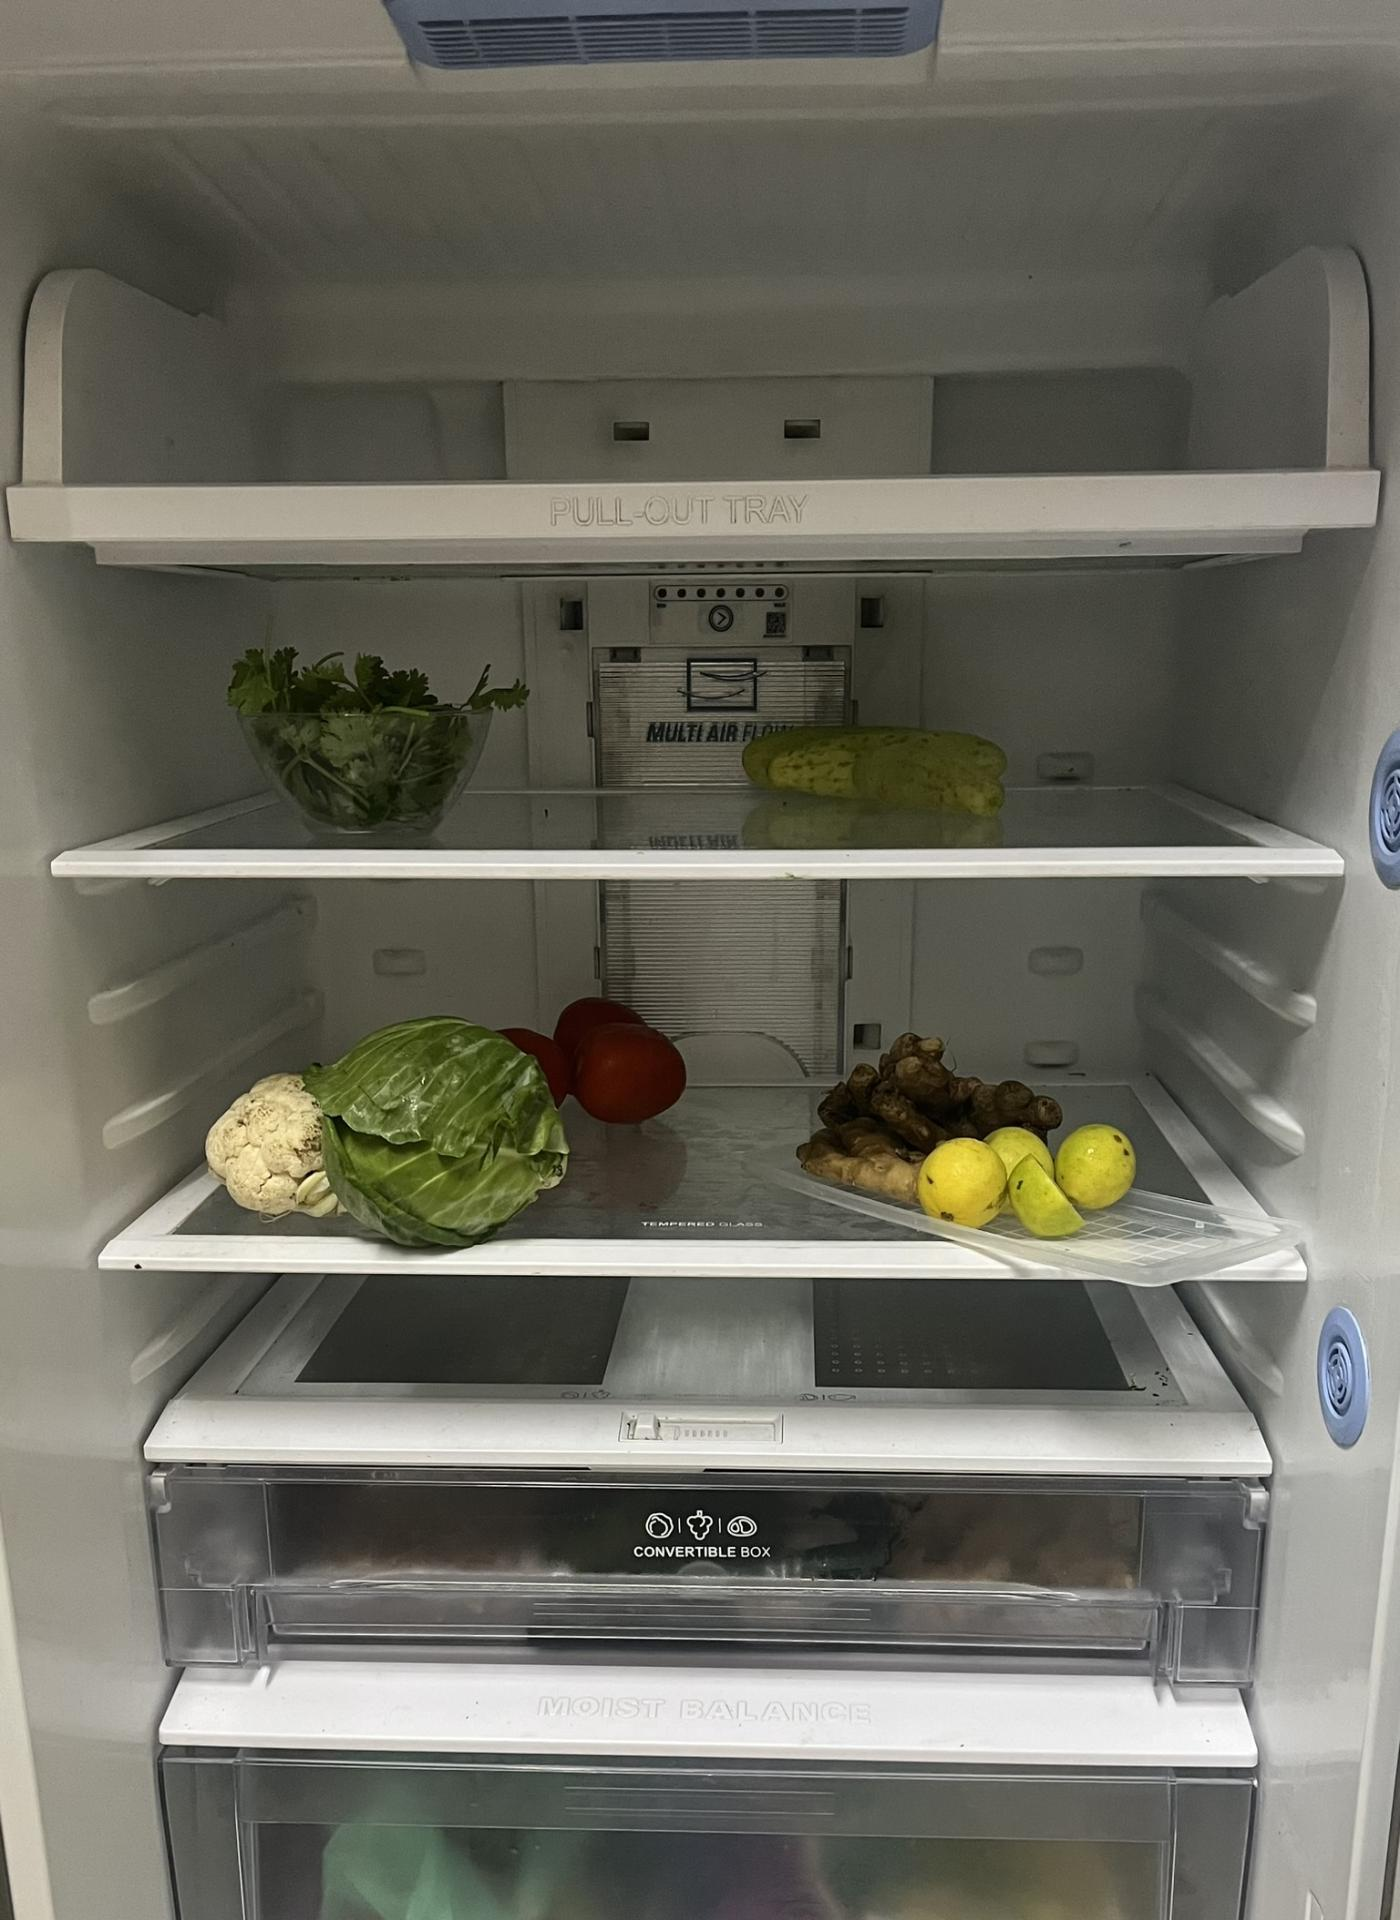cabbage: (321, 1023, 565, 1243)
cauliflower: (204, 1075, 356, 1221)
coriander: (228, 645, 531, 839)
cucumber: (747, 721, 1012, 817)
ginger: (798, 1036, 1051, 1201)
lemon: (914, 1128, 1136, 1243)
tomato: (514, 990, 683, 1118)
